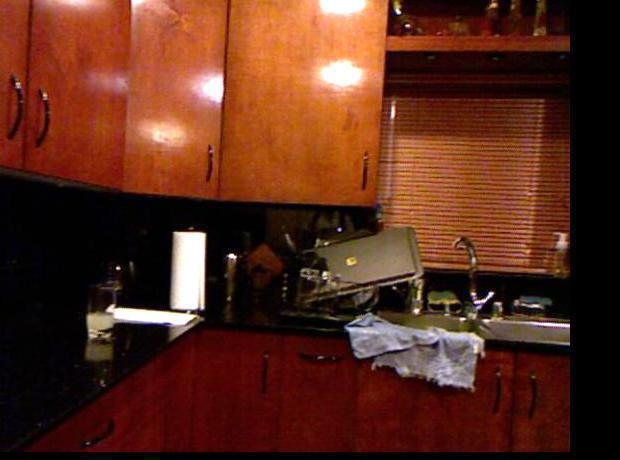Lavaplatos: (365, 226, 568, 353)
